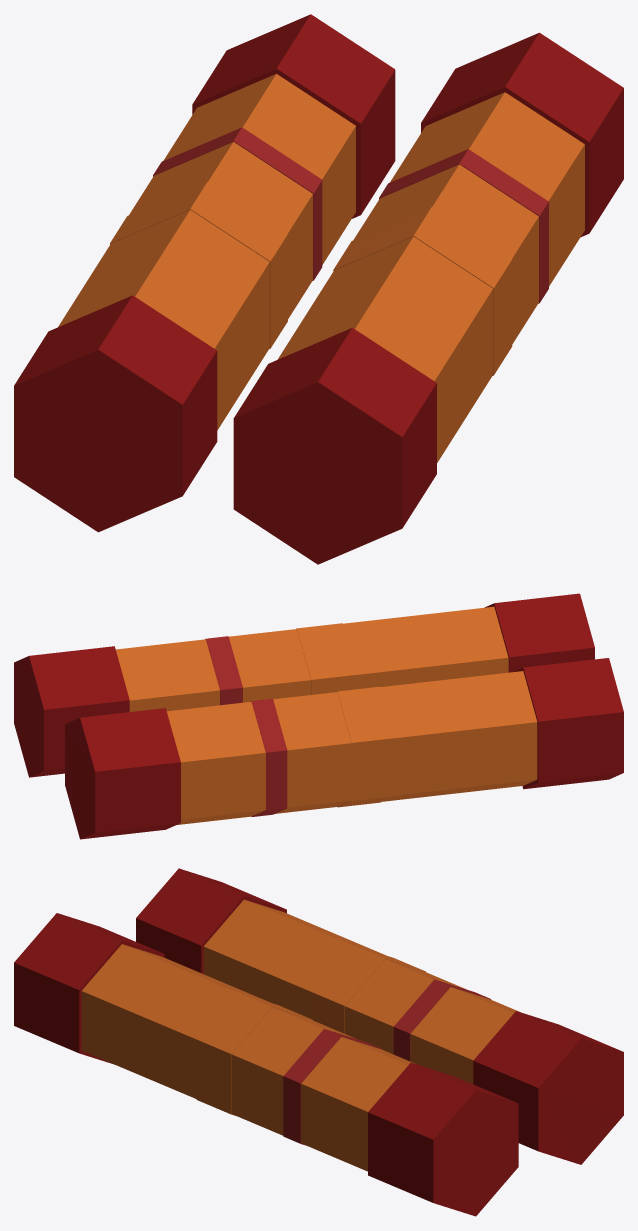
Rendered from ce_ammo2_m74_inc_b.obj.
The picture shows the model from 3 angles, top to bottom: view 1: azimuth 30°, elevation 25°; view 2: azimuth 150°, elevation 25°; view 3: azimuth 270°, elevation 25°; orthographic projection. The views are drawn at different scales.
Visible parts, largest first — view 1: ce_ammo2_m74_inc_b_0, ce_ammo2_m74_inc_b_7, ce_ammo2_m74_inc_b_8, ce_ammo2_m74_inc_b_1, ce_ammo2_m74_inc_b_6, ce_ammo2_m74_inc_b_13, ce_ammo2_m74_inc_b_12, ce_ammo2_m74_inc_b_5, ce_ammo2_m74_inc_b_10, ce_ammo2_m74_inc_b_3, ce_ammo2_m74_inc_b_9, ce_ammo2_m74_inc_b_2 (+2 smaller); view 2: ce_ammo2_m74_inc_b_1, ce_ammo2_m74_inc_b_6, ce_ammo2_m74_inc_b_0, ce_ammo2_m74_inc_b_8, ce_ammo2_m74_inc_b_13, ce_ammo2_m74_inc_b_5, ce_ammo2_m74_inc_b_3, ce_ammo2_m74_inc_b_12, ce_ammo2_m74_inc_b_7, ce_ammo2_m74_inc_b_2, ce_ammo2_m74_inc_b_10, ce_ammo2_m74_inc_b_9 (+2 smaller); view 3: ce_ammo2_m74_inc_b_13, ce_ammo2_m74_inc_b_6, ce_ammo2_m74_inc_b_8, ce_ammo2_m74_inc_b_1, ce_ammo2_m74_inc_b_7, ce_ammo2_m74_inc_b_12, ce_ammo2_m74_inc_b_0, ce_ammo2_m74_inc_b_10, ce_ammo2_m74_inc_b_5, ce_ammo2_m74_inc_b_3, ce_ammo2_m74_inc_b_9, ce_ammo2_m74_inc_b_2 (+2 smaller).
Boxes of the visible parts, <box> form: ce_ammo2_m74_inc_b_0: <box>14,295,217,532</box>; ce_ammo2_m74_inc_b_7: <box>233,327,436,564</box>; ce_ammo2_m74_inc_b_8: <box>277,236,492,462</box>; ce_ammo2_m74_inc_b_1: <box>58,210,269,430</box>; ce_ammo2_m74_inc_b_6: <box>192,14,395,218</box>; ce_ammo2_m74_inc_b_13: <box>421,32,623,236</box>; ce_ammo2_m74_inc_b_12: <box>390,92,584,286</box>; ce_ammo2_m74_inc_b_5: <box>163,74,355,264</box>; ce_ammo2_m74_inc_b_10: <box>353,164,538,343</box>; ce_ammo2_m74_inc_b_3: <box>129,142,312,318</box>; ce_ammo2_m74_inc_b_9: <box>333,207,512,375</box>; ce_ammo2_m74_inc_b_2: <box>110,182,287,348</box>; ce_ammo2_m74_inc_b_1: <box>380,671,537,801</box>; ce_ammo2_m74_inc_b_6: <box>65,708,180,839</box>; ce_ammo2_m74_inc_b_0: <box>514,658,623,789</box>; ce_ammo2_m74_inc_b_8: <box>343,606,508,689</box>; ce_ammo2_m74_inc_b_13: <box>14,646,129,777</box>; ce_ammo2_m74_inc_b_5: <box>167,701,265,824</box>; ce_ammo2_m74_inc_b_3: <box>273,692,351,813</box>; ce_ammo2_m74_inc_b_12: <box>116,639,219,711</box>; ce_ammo2_m74_inc_b_7: <box>485,593,594,672</box>; ce_ammo2_m74_inc_b_2: <box>337,686,394,807</box>; ce_ammo2_m74_inc_b_10: <box>229,629,310,702</box>; ce_ammo2_m74_inc_b_9: <box>296,623,356,694</box>; ce_ammo2_m74_inc_b_13: <box>368,1062,518,1216</box>; ce_ammo2_m74_inc_b_6: <box>473,1011,623,1164</box>; ce_ammo2_m74_inc_b_8: <box>81,944,269,1098</box>; ce_ammo2_m74_inc_b_1: <box>203,899,384,1019</box>; ce_ammo2_m74_inc_b_7: <box>14,913,164,1064</box>; ce_ammo2_m74_inc_b_12: <box>301,1037,415,1171</box>; ce_ammo2_m74_inc_b_0: <box>136,868,286,973</box>; ce_ammo2_m74_inc_b_10: <box>231,1007,355,1135</box>; ce_ammo2_m74_inc_b_5: <box>410,987,520,1083</box>; ce_ammo2_m74_inc_b_3: <box>345,959,466,1054</box>; ce_ammo2_m74_inc_b_9: <box>196,992,312,1115</box>; ce_ammo2_m74_inc_b_2: <box>312,945,425,1033</box>.
Size of the model in its own units: 0.463 by 0.106 by 0.463.
